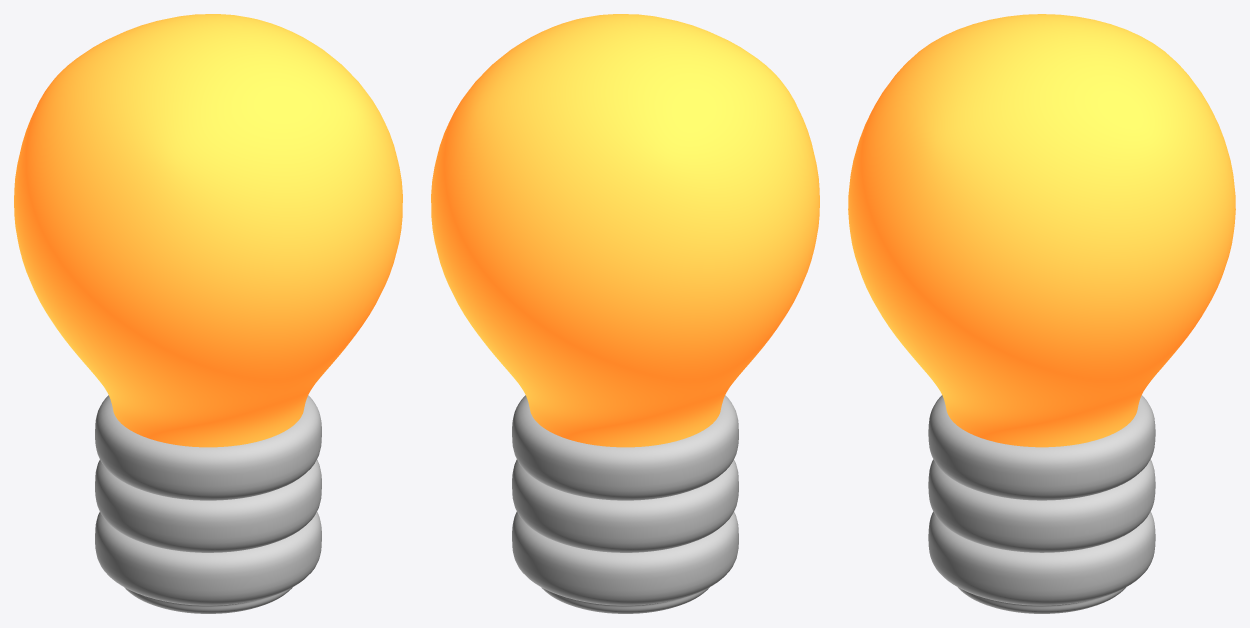
Rendered from BULB2.glb.
3 renders of one model, left to right at view 1: azimuth 30°, elevation 25°; view 2: azimuth 150°, elevation 25°; view 3: azimuth 270°, elevation 25°, orthographic.
Visible parts, largest first — view 1: Torus.004; view 2: Torus.004; view 3: Torus.004.
Part boxes in pixels (box(x1,y1,x2,y2)): Torus.004: box(14, 14, 402, 613); Torus.004: box(431, 14, 819, 613); Torus.004: box(848, 14, 1235, 613).
Size of the model in its own units: 1.25 by 1.96 by 1.25.
